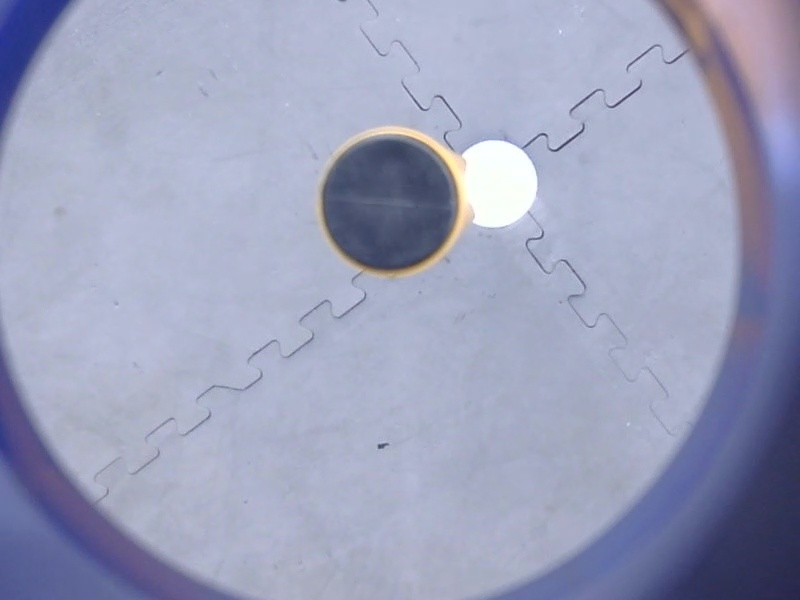tip: (304, 118, 475, 287)
